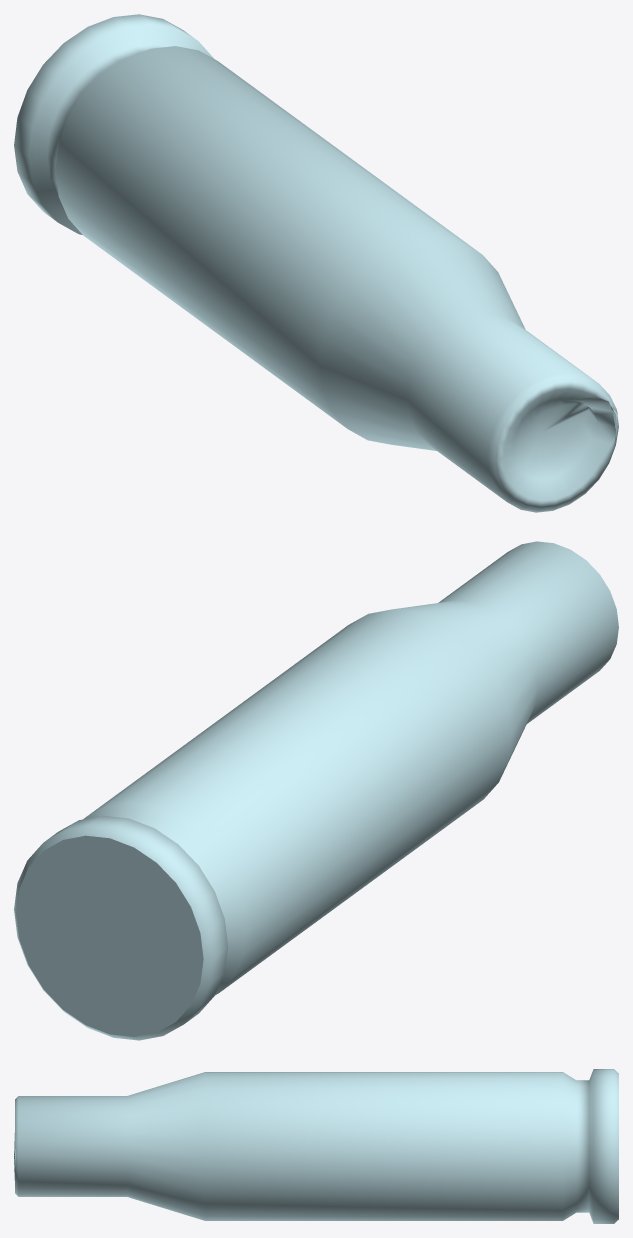
Rendered from Shell.fbx.
3 views of the same model, one above another, from view 1: azimuth 30°, elevation 25°; view 2: azimuth 150°, elevation 25°; view 3: azimuth 270°, elevation 25° (orthographic). The views are drawn at different scales.
Parts seen in each view (by area): view 1: cal_7_62x39; view 2: cal_7_62x39; view 3: cal_7_62x39.
Part boxes in pixels (bbox=[...]): cal_7_62x39: bbox=[14, 14, 618, 512]; cal_7_62x39: bbox=[14, 541, 618, 1040]; cal_7_62x39: bbox=[14, 1069, 618, 1223].
Bounding box in the file's own units: 1.12 × 1.12 × 4.34.
